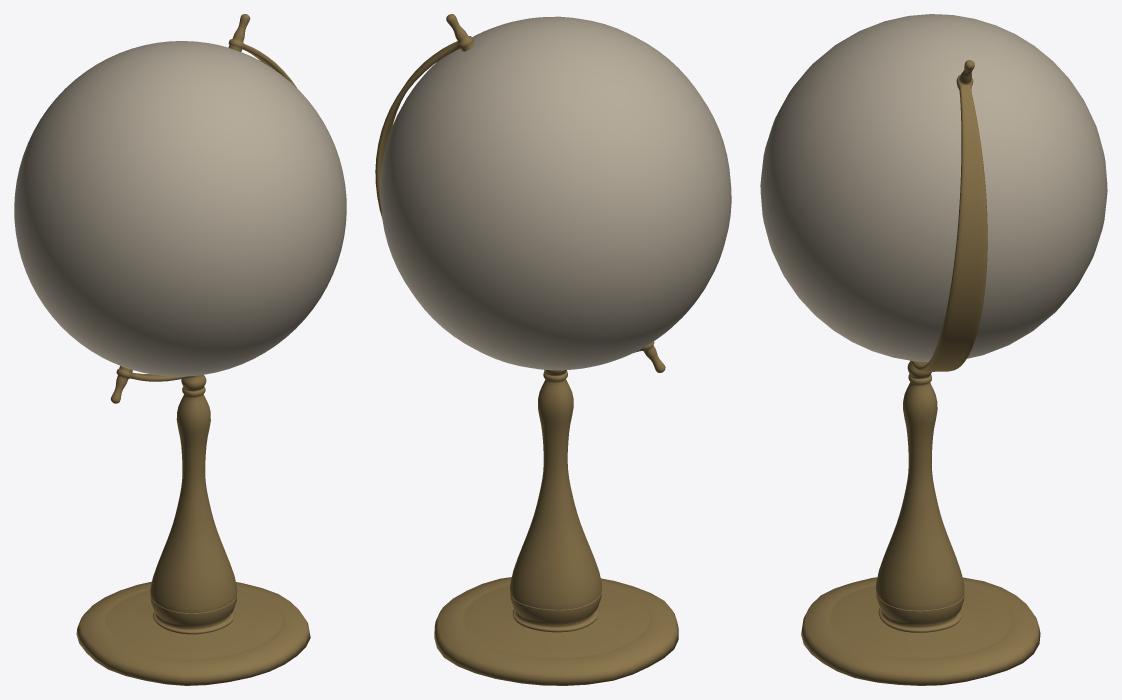
The model's file is globe_hp.fbx.
The picture shows the model from 3 angles, left to right: view 1: azimuth 30°, elevation 25°; view 2: azimuth 150°, elevation 25°; view 3: azimuth 270°, elevation 25°; orthographic projection. The views are drawn at different scales.
Parts seen in each view (by area): view 1: globe_hp; view 2: globe_hp; view 3: globe_hp.
Boxes of the visible parts, bbox=[...] form: globe_hp: bbox=[14, 14, 346, 685]; globe_hp: bbox=[375, 14, 731, 685]; globe_hp: bbox=[760, 14, 1107, 685].
Bounding box in the file's own units: 0.6345 × 1.22 × 0.6191.
